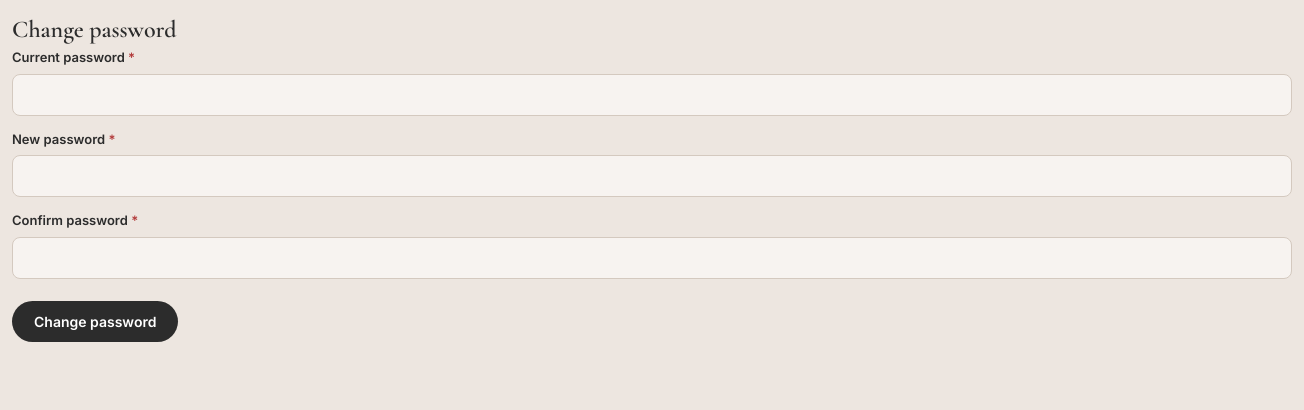
it: ChangePasswordForm › requires matching passwords of at least 8 characters
This screenshot has width=1304, height=410.
Type "password" into the password field labelled "Current password" at (652, 94), box [12,74,1292,116]
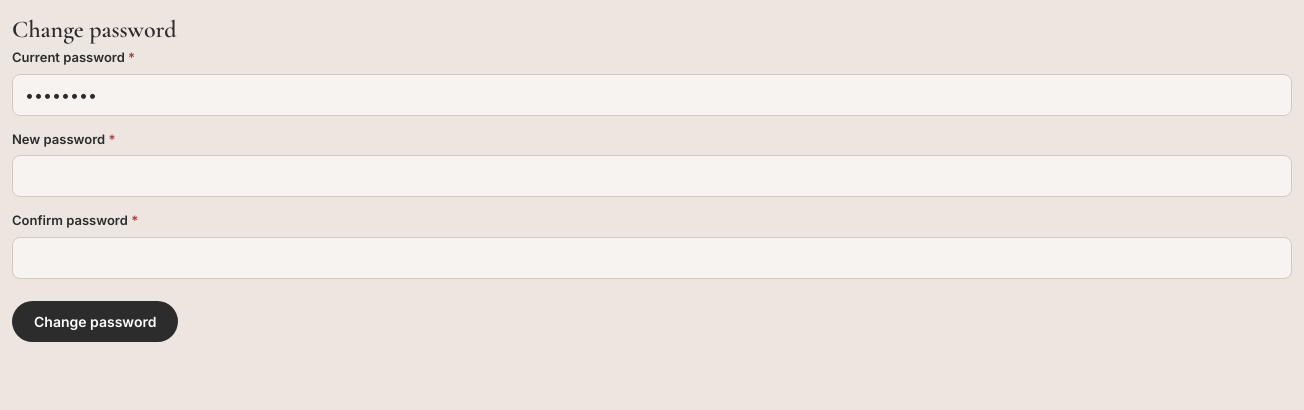
Type "short" into the password field labelled "New password" at (652, 176), box [12,155,1292,197]
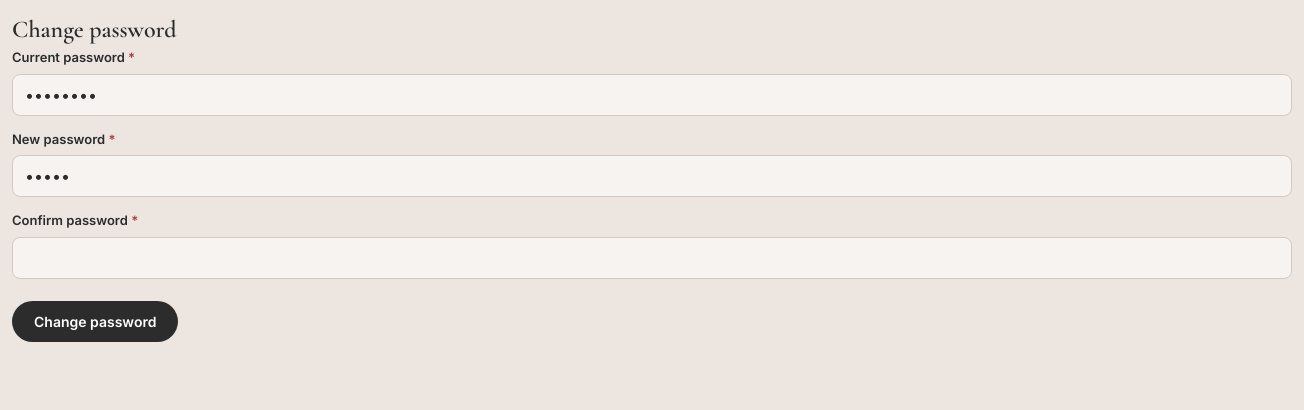
Type "different" into the password field labelled "Confirm password" at (652, 258), box [12,236,1292,278]
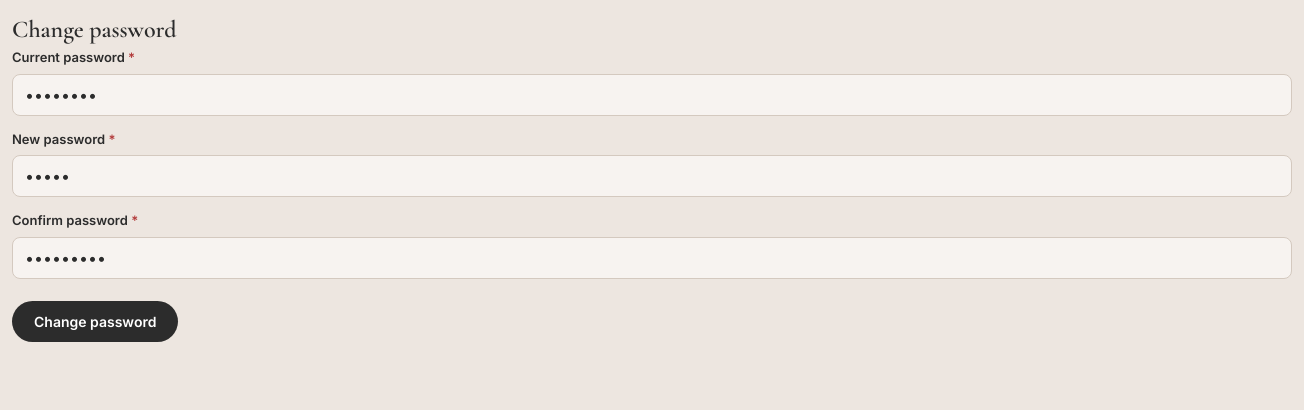
Click the button "Change password" at (95, 321), box [12,300,178,342]
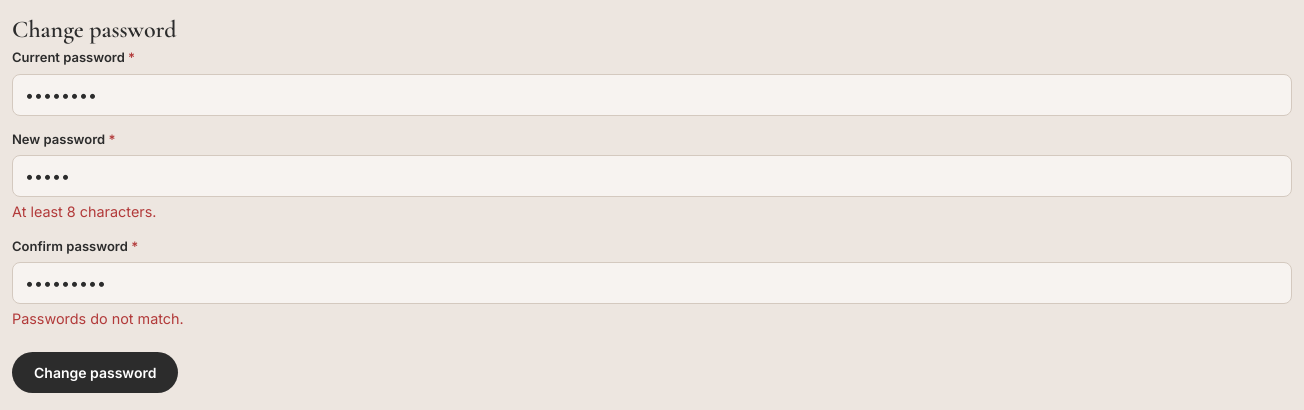
Expected: the text "At least 8 characters." is shown, [12,203,156,220]
Expected: the text "Passwords do not match." is shown, [12,310,184,327]
